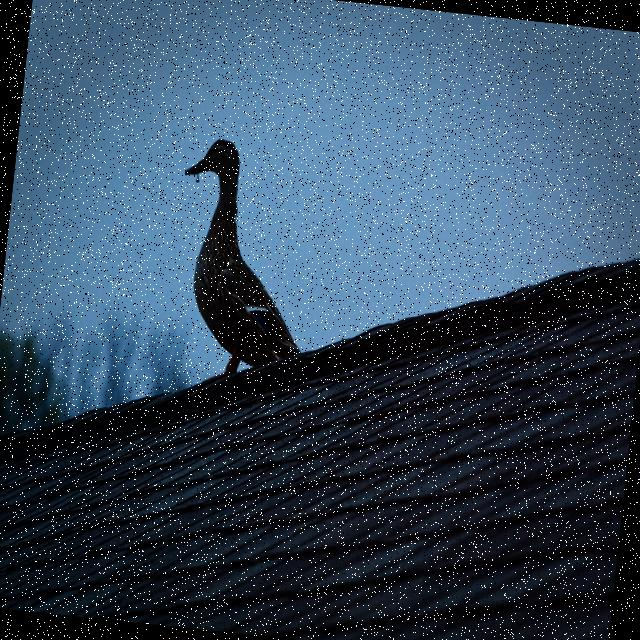bird: (162, 134, 326, 388)
